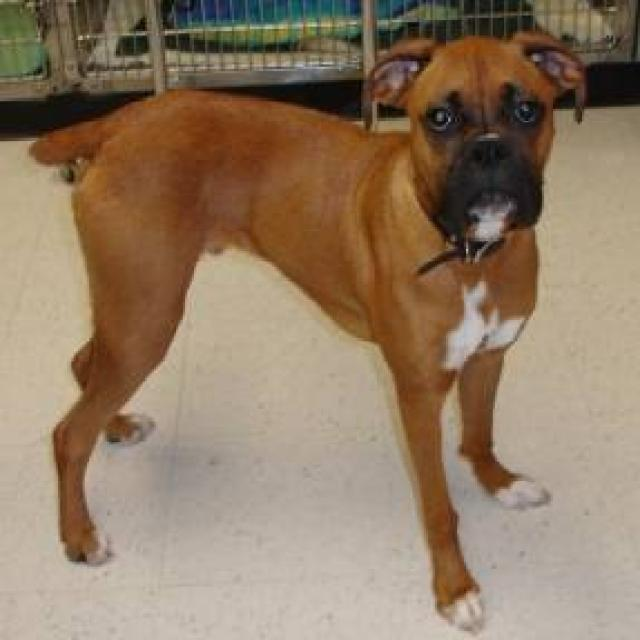dog: (26, 27, 588, 633)
